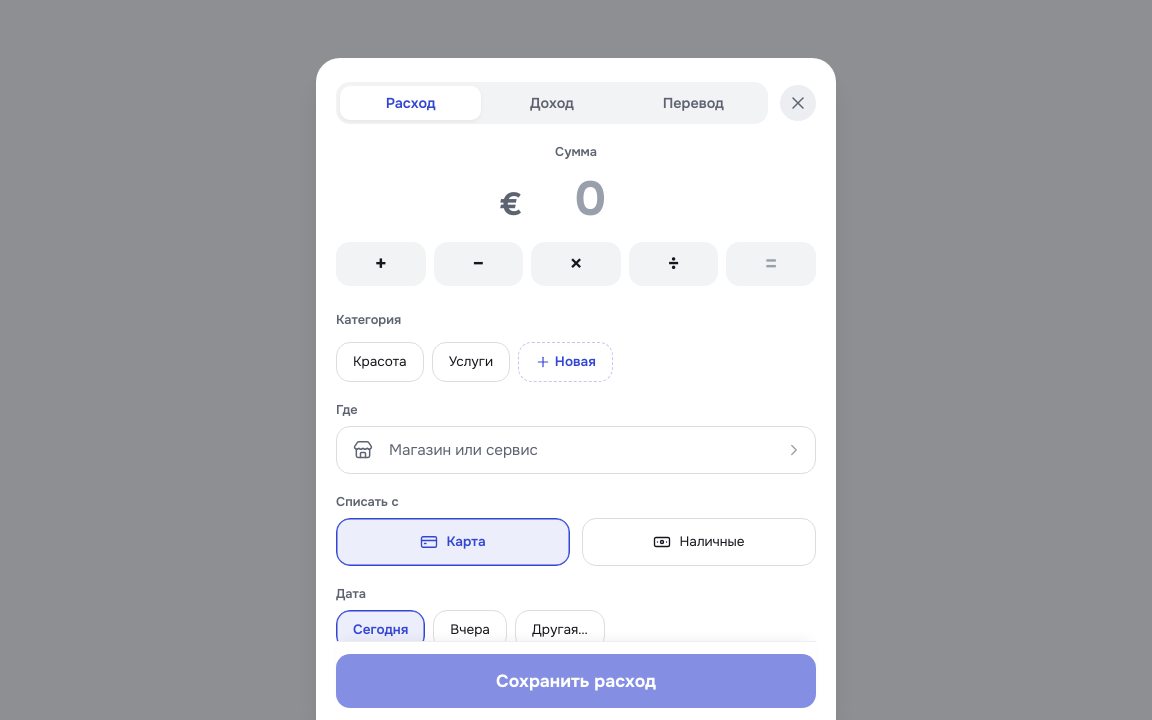
Test case: company field logo status and actions › reports a missing logo and keeps the website choice at hand
Later steps or results of the test are not shown.
Type "34" into the field with placeholder "0".
click(590, 199); type("34")  # box left=526, top=168, right=653, bottom=230
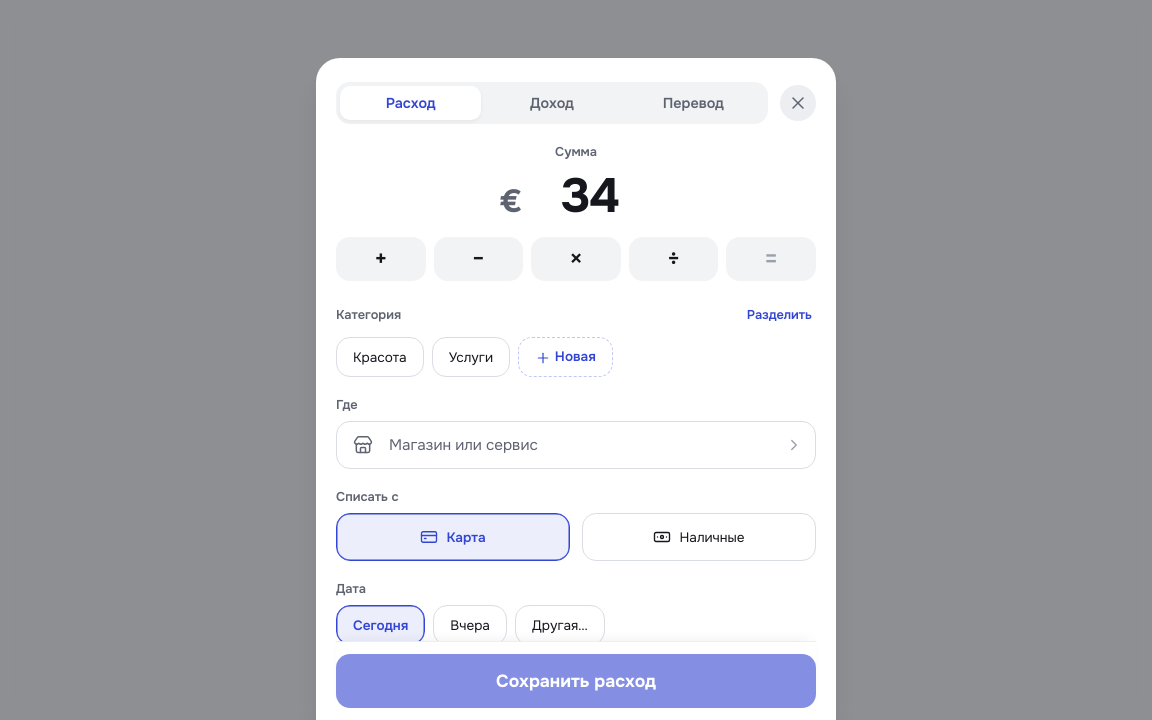
Click the button "Красота".
click(380, 357)  # box left=336, top=337, right=424, bottom=377
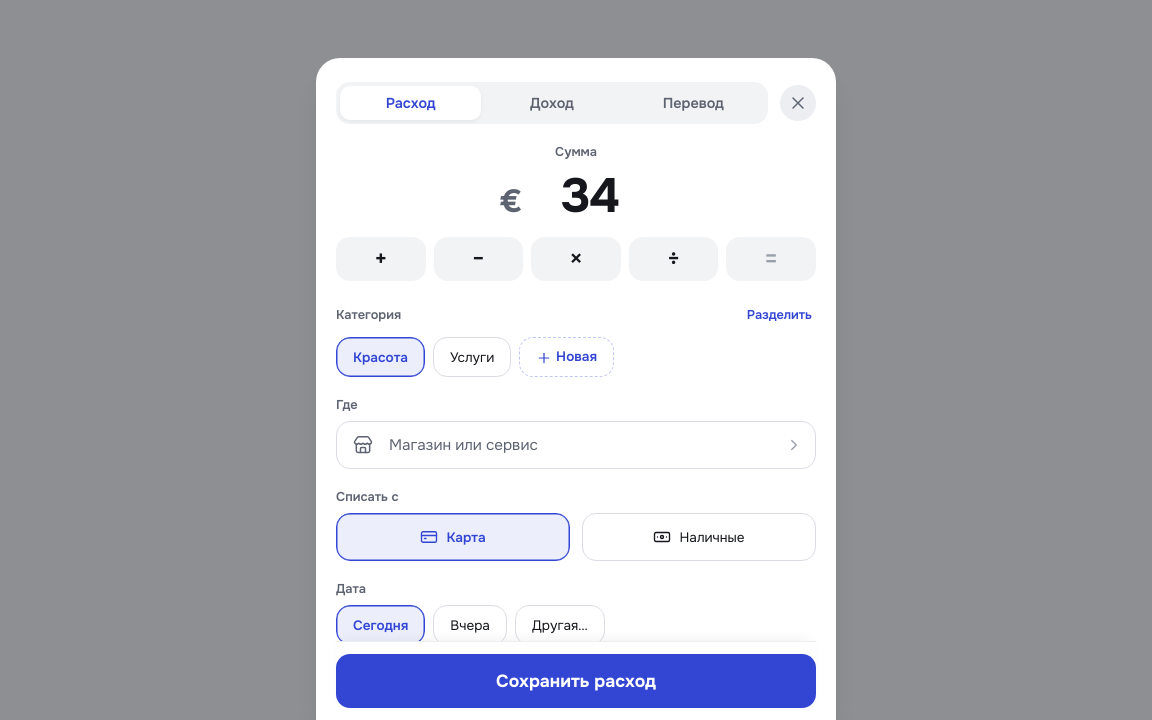
Click the button "Магазин или сервис".
click(463, 445)  # box left=336, top=421, right=816, bottom=469
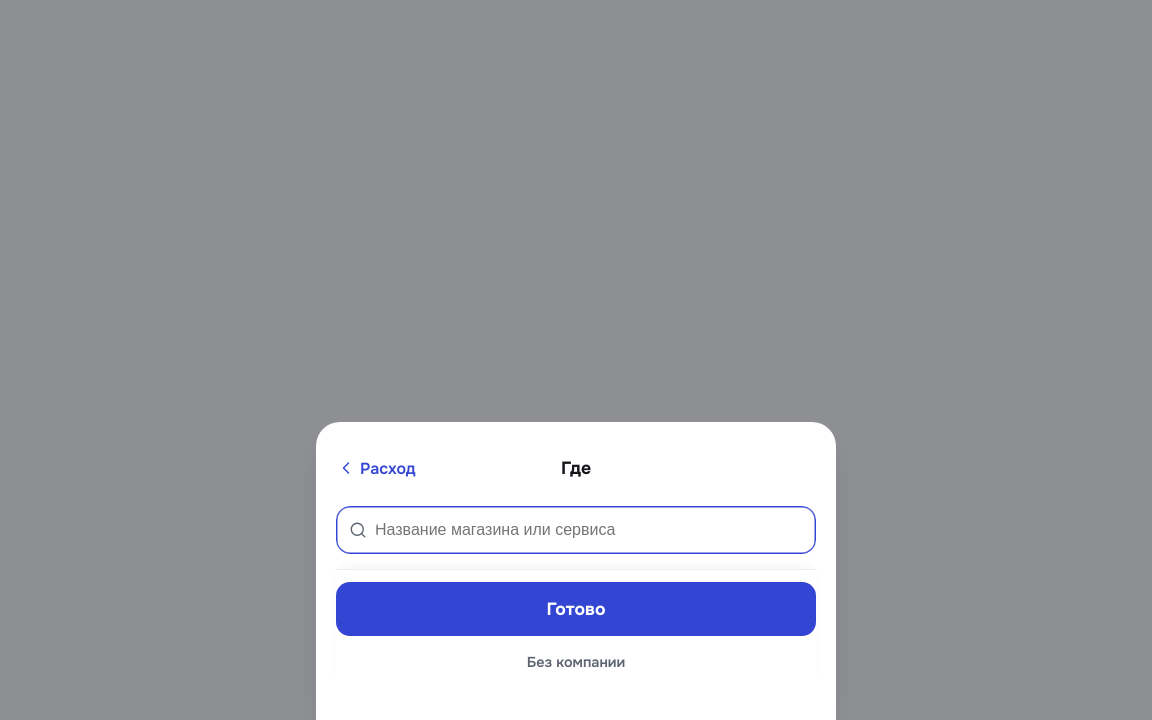
Type "Unknown Shop" into the field named "Компания".
click(594, 530); type("Unknown Shop")  # box left=375, top=521, right=813, bottom=539
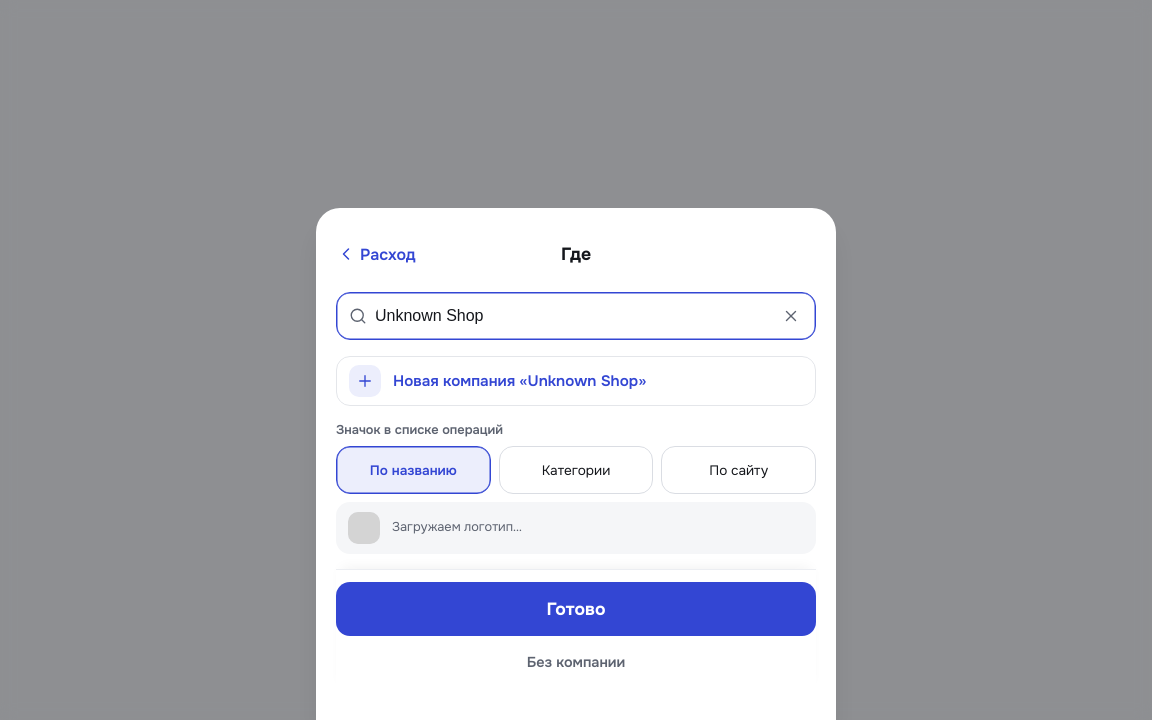
Expected: the message reads "Загружаем логотип…", left=392, top=519, right=522, bottom=535
